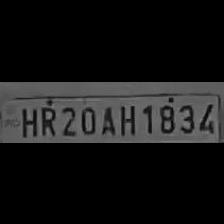0: (76, 103, 98, 135)
1: (137, 100, 155, 136)
2: (57, 102, 77, 136)
3: (176, 100, 194, 134)
4: (196, 100, 216, 132)
8: (156, 100, 176, 134)
A: (97, 102, 117, 134)
H: (116, 100, 136, 136), (18, 104, 38, 136)
R: (37, 102, 57, 136)
